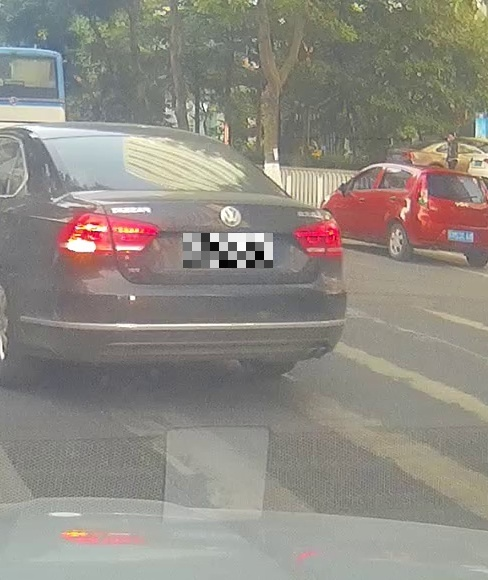L_light: (57, 212, 161, 257)
R_light: (291, 219, 342, 257)
T_light: (207, 184, 249, 193)
day-left: (57, 125, 343, 379)
plate_1: (183, 233, 273, 268)
